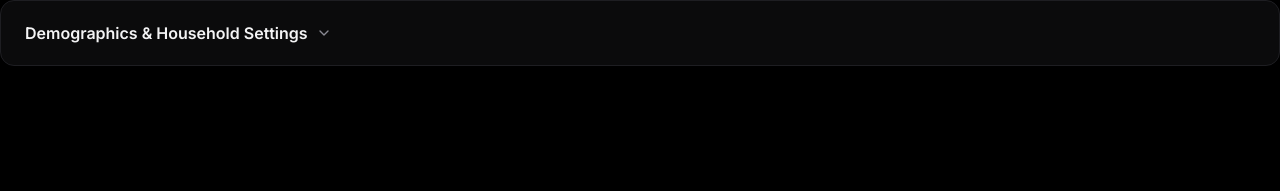
Test: ProfileForm summary › counts a household with children
The width and height of the screenshot is (1280, 191).
Step 1. Click the button "Demographics & Household Settings" → (178, 33), box [25, 21, 332, 45]
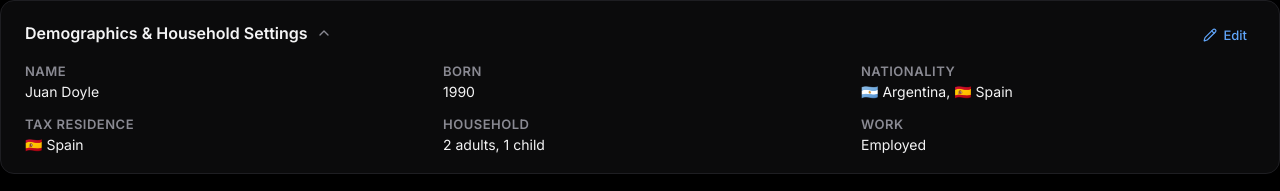
Now the text "2 adults, 1 child" is shown, box [443, 136, 545, 153]
